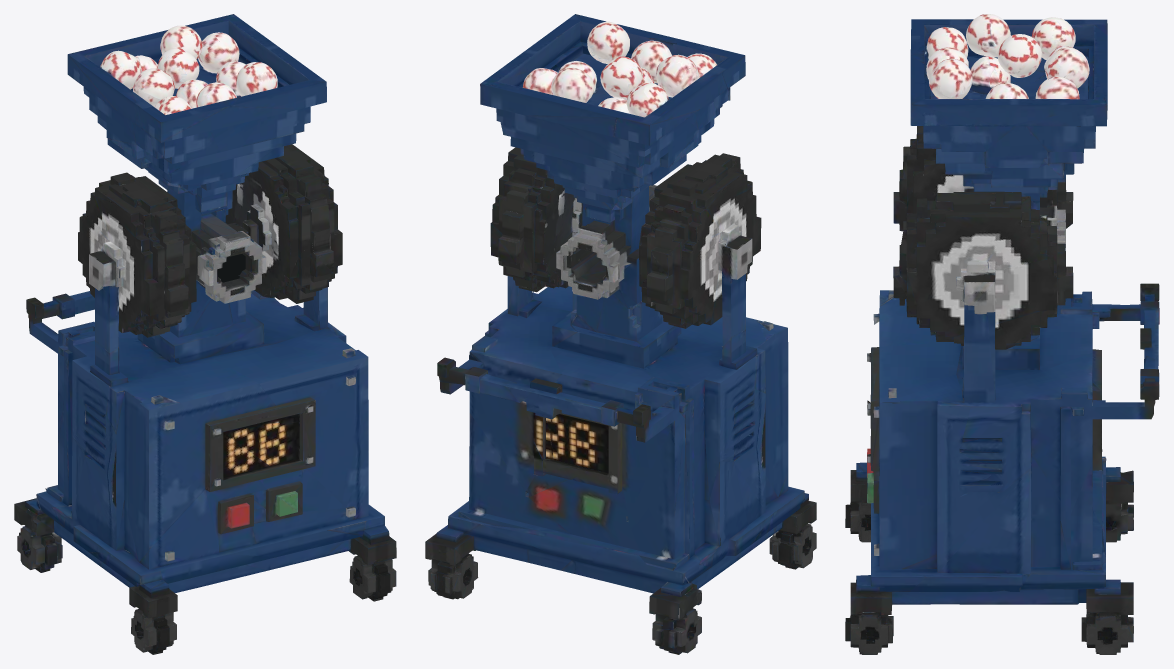
File: pitching_machine.glb
3 renders of one model, left to right at view 1: azimuth 30°, elevation 25°; view 2: azimuth 150°, elevation 25°; view 3: azimuth 270°, elevation 25°, orthographic. The views are drawn at different scales.
Parts seen in each view (by area): view 1: Body, WheelL, WheelR; view 2: Body, WheelL, WheelR; view 3: Body, WheelR, WheelL.
Part boxes in pixels (x1,y1,x2,y2): Body: (14, 14, 396, 654); WheelL: (78, 175, 196, 334); WheelR: (226, 144, 342, 299); Body: (425, 14, 816, 654); WheelL: (639, 160, 761, 325); WheelR: (490, 147, 576, 288); Body: (845, 14, 1159, 654); WheelR: (900, 191, 1066, 349); WheelL: (899, 149, 1066, 220).
Bounding box in the file's own units: 0.7723 × 1.56 × 0.8045.
1 material, 1 textured.
